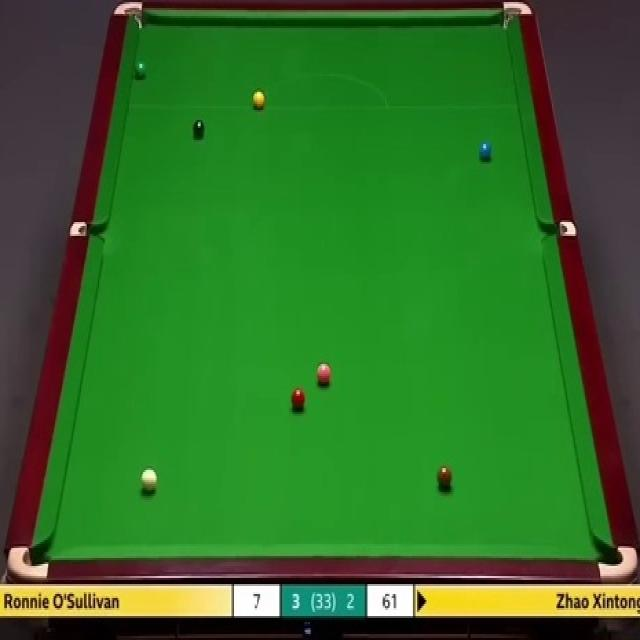pocket: (597, 543, 639, 585), (5, 545, 51, 583), (500, 0, 532, 32), (112, 0, 147, 29), (68, 220, 104, 237), (541, 220, 576, 235)
